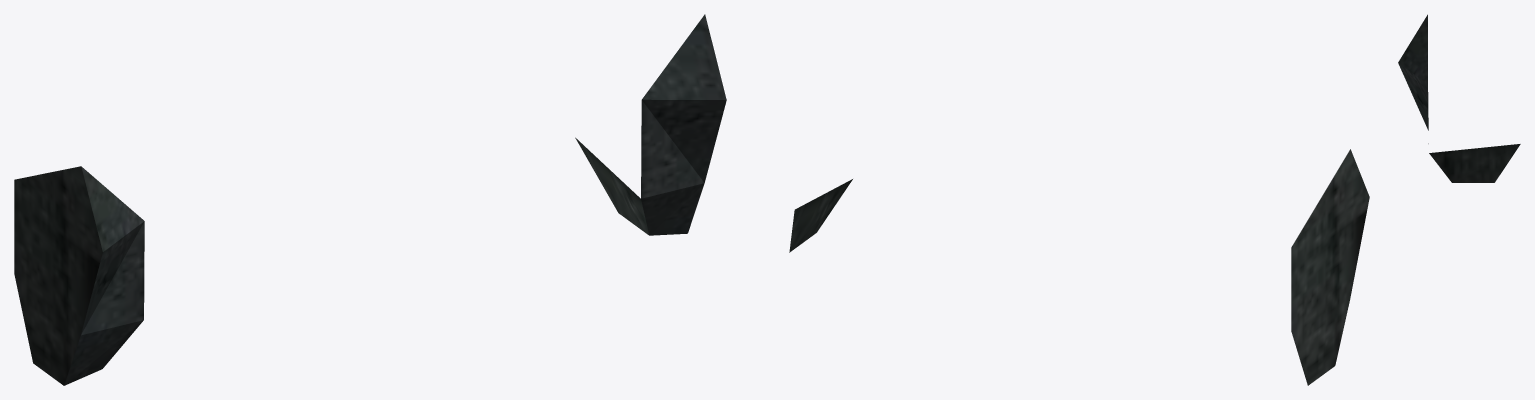
The picture shows the model from 3 angles, left to right: view 1: azimuth 30°, elevation 25°; view 2: azimuth 150°, elevation 25°; view 3: azimuth 270°, elevation 25°; orthographic projection. The views are drawn at different scales.
Visible parts, largest first — view 1: model_Object21; view 2: model_Object21; view 3: model_Object21.
Part boxes in pixels (x1,y1,x2,y2): model_Object21: [14, 14, 726, 385]; model_Object21: [789, 149, 1369, 385]; model_Object21: [1398, 14, 1520, 182].
Bounding box in the file's own units: 4 × 1.42 × 0.9851.
Materials: 2 (2 with a texture image).
